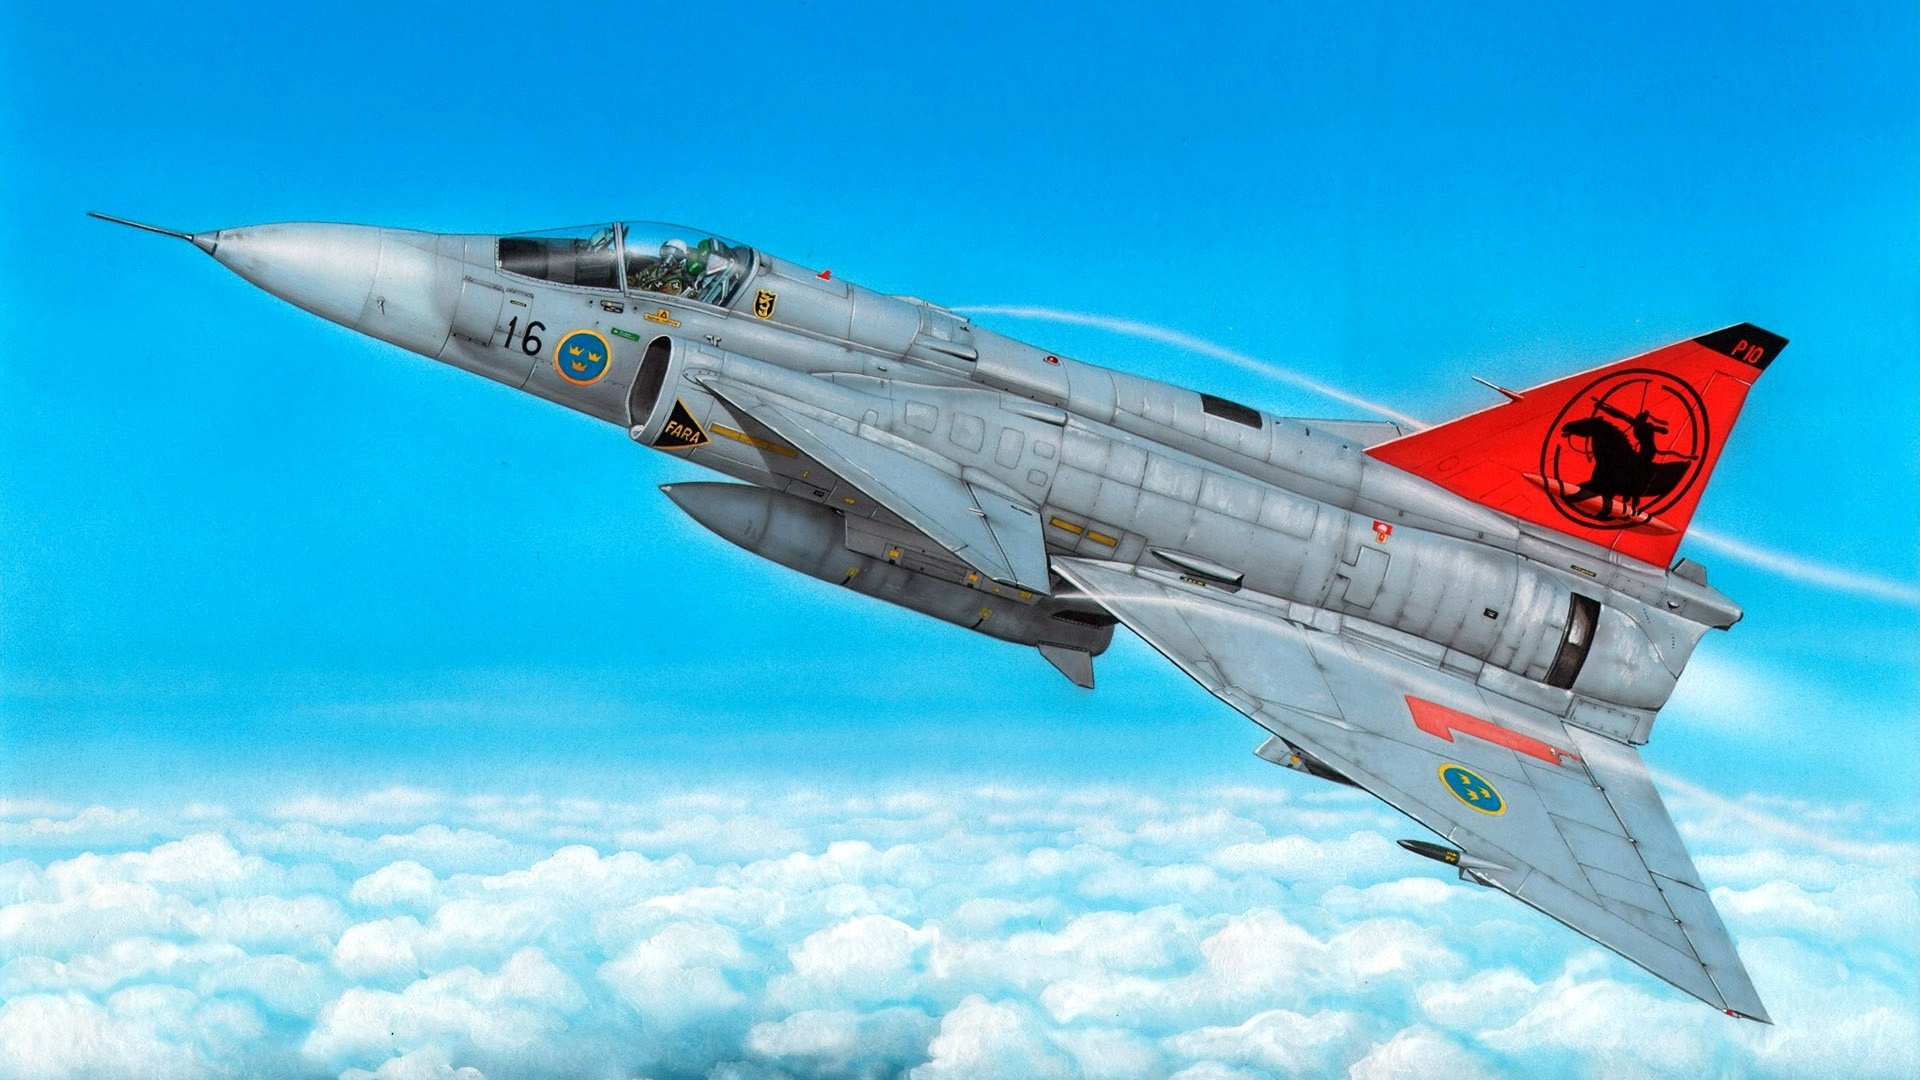airplane: (87, 200, 1787, 1036)
